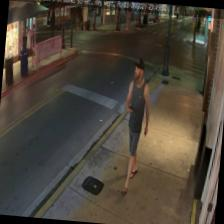person: (118, 56, 154, 195)
